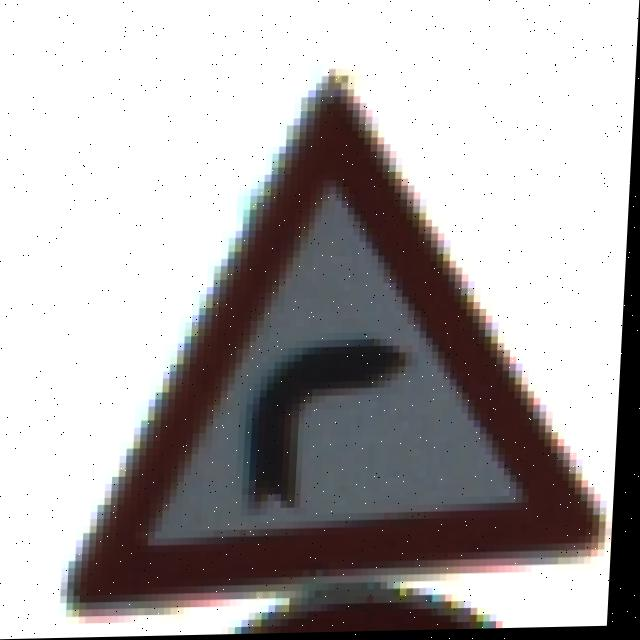right_turn: (46, 50, 604, 579)
